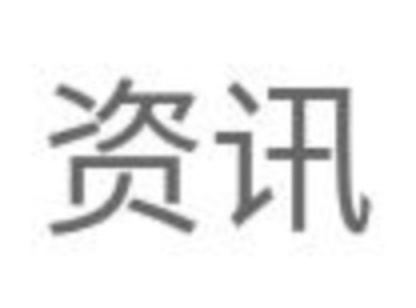TextView: (1, 1, 415, 307)
